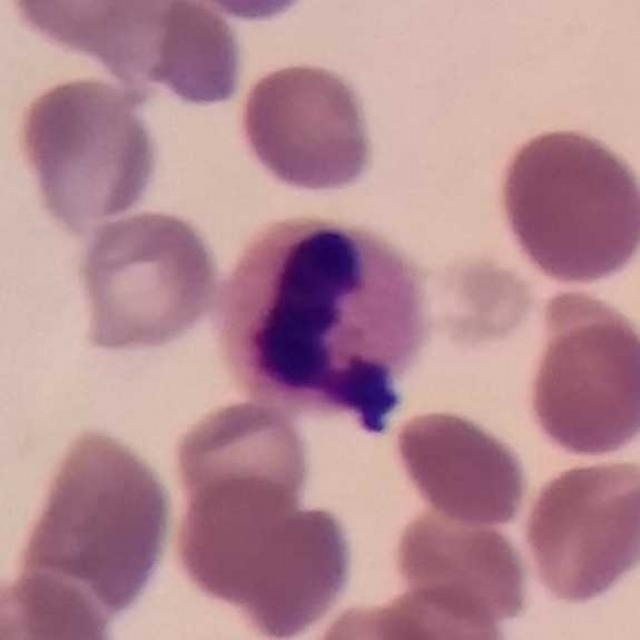Neutrophil: (209, 206, 440, 447)
RBC: (11, 420, 180, 618), (168, 472, 358, 640), (11, 71, 164, 235), (492, 122, 640, 288), (71, 206, 223, 356), (232, 56, 380, 199), (388, 494, 534, 630), (517, 453, 640, 610), (521, 303, 640, 463), (168, 396, 314, 522), (390, 404, 533, 530), (410, 248, 548, 355), (140, 0, 245, 111), (2, 0, 175, 56), (368, 579, 516, 640), (0, 567, 116, 640), (299, 596, 452, 640), (168, 0, 325, 24)
